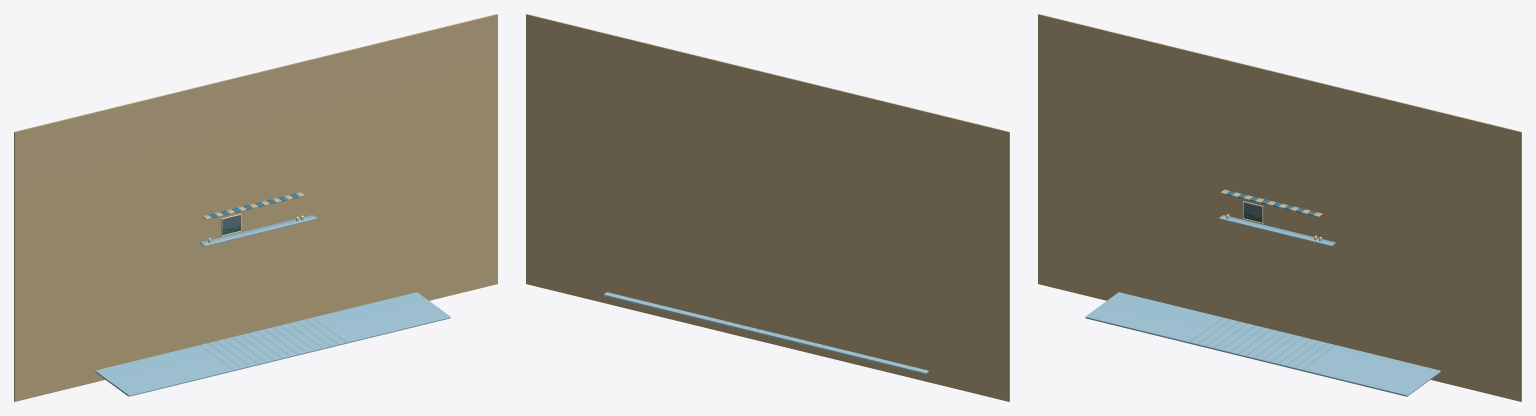
Rendered from backdrop_icecooler.glb.
3 renders of one model, left to right at view 1: azimuth 30°, elevation 25°; view 2: azimuth 150°, elevation 25°; view 3: azimuth 330°, elevation 25°, orthographic.
Parts seen in each view (by area): view 1: Plain backdrop, Wide ground, Wide ledge; view 2: Plain backdrop, Wide ground; view 3: Plain backdrop, Wide ground, Wide ledge.
Part boxes in pixels (<box>): Plain backdrop: <box>14,14,497,401</box>; Wide ground: <box>95,292,450,396</box>; Wide ledge: <box>200,215,316,246</box>; Plain backdrop: <box>526,14,1009,401</box>; Wide ground: <box>603,292,928,374</box>; Plain backdrop: <box>1038,14,1521,401</box>; Wide ground: <box>1085,292,1440,396</box>; Wide ledge: <box>1219,214,1335,246</box>.
Bounding box in the file's own units: 60 × 32 × 8.
